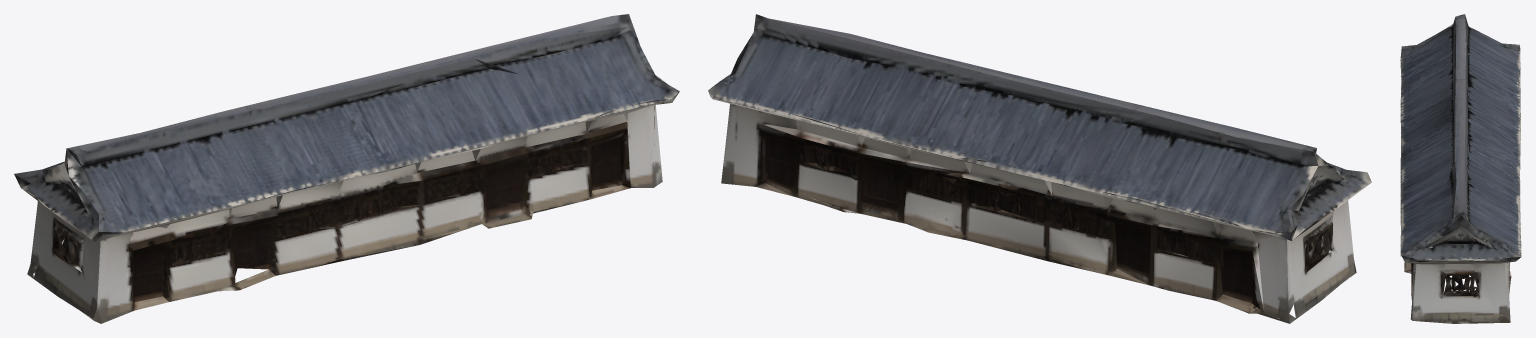
The model's file is barracks_nagaya_lod2.glb.
The picture shows the model from 3 angles, left to right: view 1: azimuth 30°, elevation 25°; view 2: azimuth 150°, elevation 25°; view 3: azimuth 270°, elevation 25°; orthographic projection. The views are drawn at different scales.
Visible parts, largest first — view 1: barracks_nagaya_lod2; view 2: barracks_nagaya_lod2; view 3: barracks_nagaya_lod2.
Boxes of the visible parts, x1=… form: barracks_nagaya_lod2: x1=14, y1=14, x2=679, y2=323; barracks_nagaya_lod2: x1=708, y1=14, x2=1371, y2=323; barracks_nagaya_lod2: x1=1400, y1=14, x2=1521, y2=323.
Size of the model in its own units: 24.01 by 5.73 by 5.79.
Materials: 1 (1 with a texture image).
